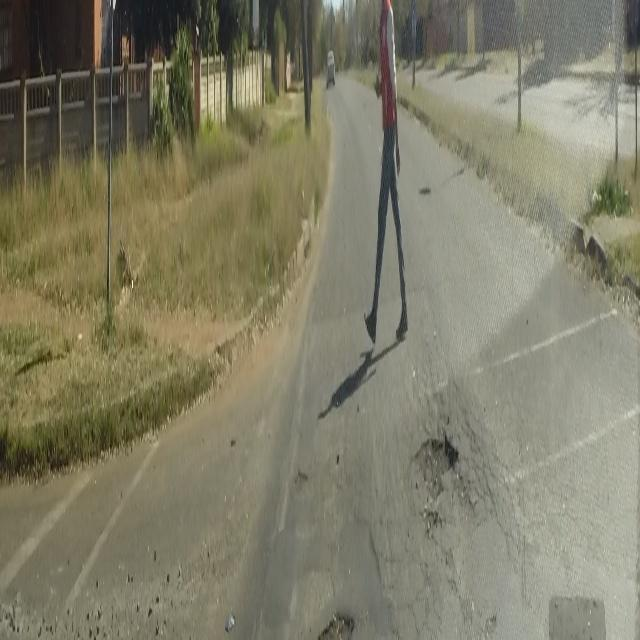pothole: (408, 416, 458, 520), (311, 605, 370, 640), (292, 459, 310, 494)
